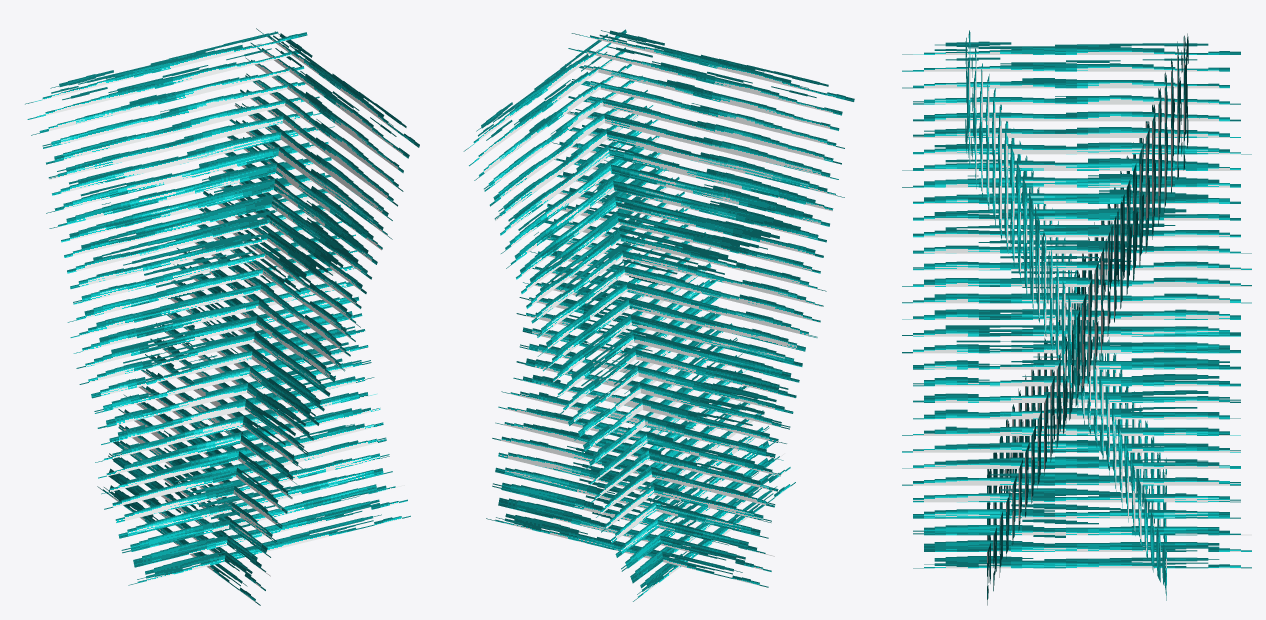
Rendered from block_soul_fire_floor1.gltf.
3 renders of one model, left to right at view 1: azimuth 30°, elevation 25°; view 2: azimuth 150°, elevation 25°; view 3: azimuth 270°, elevation 25°, orthographic. The views are drawn at different scales.
Visible parts, largest first — view 1: cube (×2); view 2: cube (×2); view 3: cube (×3).
Part boxes in pixels (x1,y1,x2,y2): cube (×2): (25, 28, 419, 605); cube (×2): (463, 29, 854, 601); cube (×3): (902, 30, 1251, 605).
Size of the model in its own units: 1 by 1.44 by 1.
Materials: 1 (1 with a texture image).
